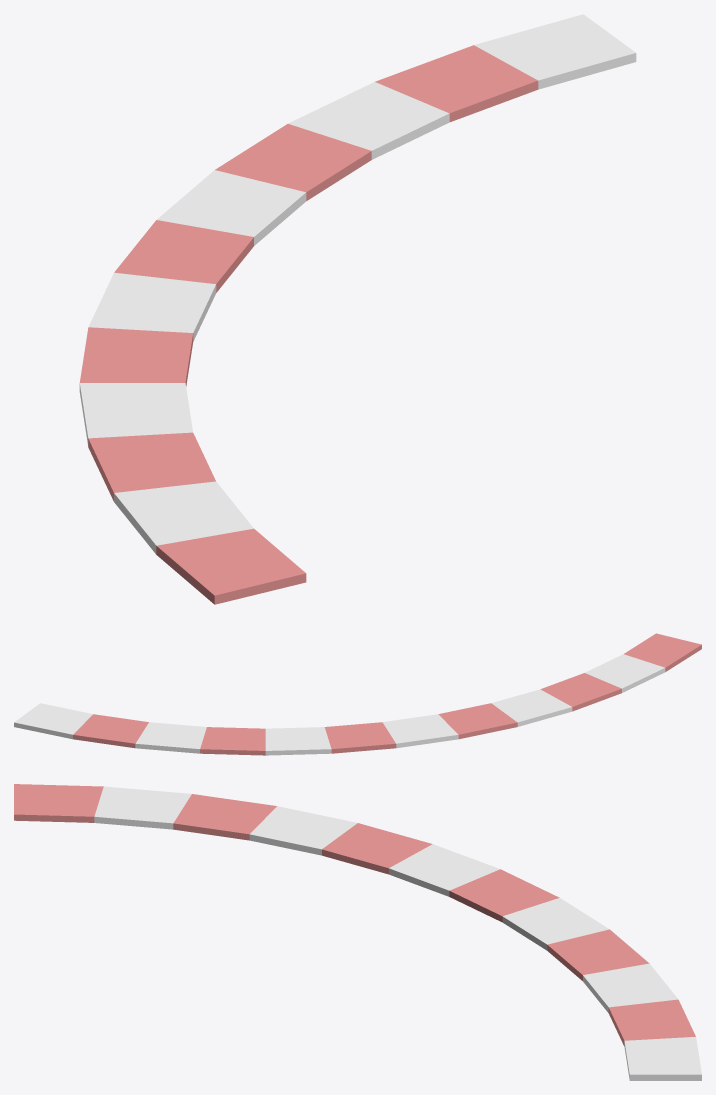
Rendered from roadCornerLargerBorderInner.glb.
3 renders of one model, top to bottom at view 1: azimuth 30°, elevation 25°; view 2: azimuth 150°, elevation 25°; view 3: azimuth 270°, elevation 25°, orthographic. The views are drawn at different scales.
Visible parts, largest first — view 1: roadCornerLargerBorderInner(Clone); view 2: roadCornerLargerBorderInner(Clone); view 3: roadCornerLargerBorderInner(Clone).
Part boxes in pixels (bbox=[...]): roadCornerLargerBorderInner(Clone): bbox=[79, 14, 636, 604]; roadCornerLargerBorderInner(Clone): bbox=[14, 633, 701, 755]; roadCornerLargerBorderInner(Clone): bbox=[14, 784, 701, 1080].
Bounding box in the file's own units: 2 × 0.02 × 2.
